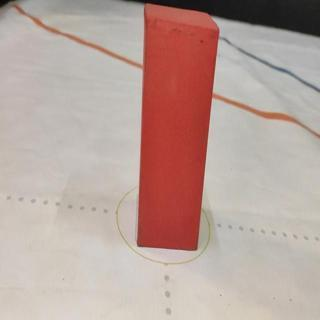redbox: (135, 3, 220, 251)
